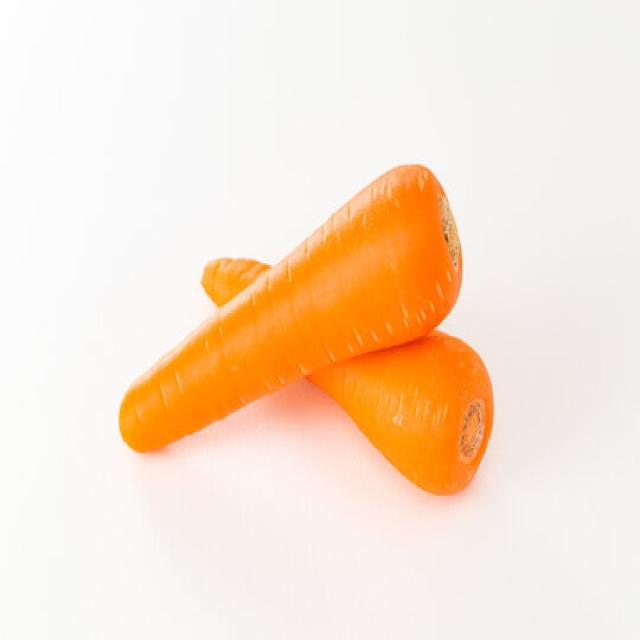Carrot: (118, 162, 464, 455), (304, 327, 494, 496), (199, 254, 273, 308)
